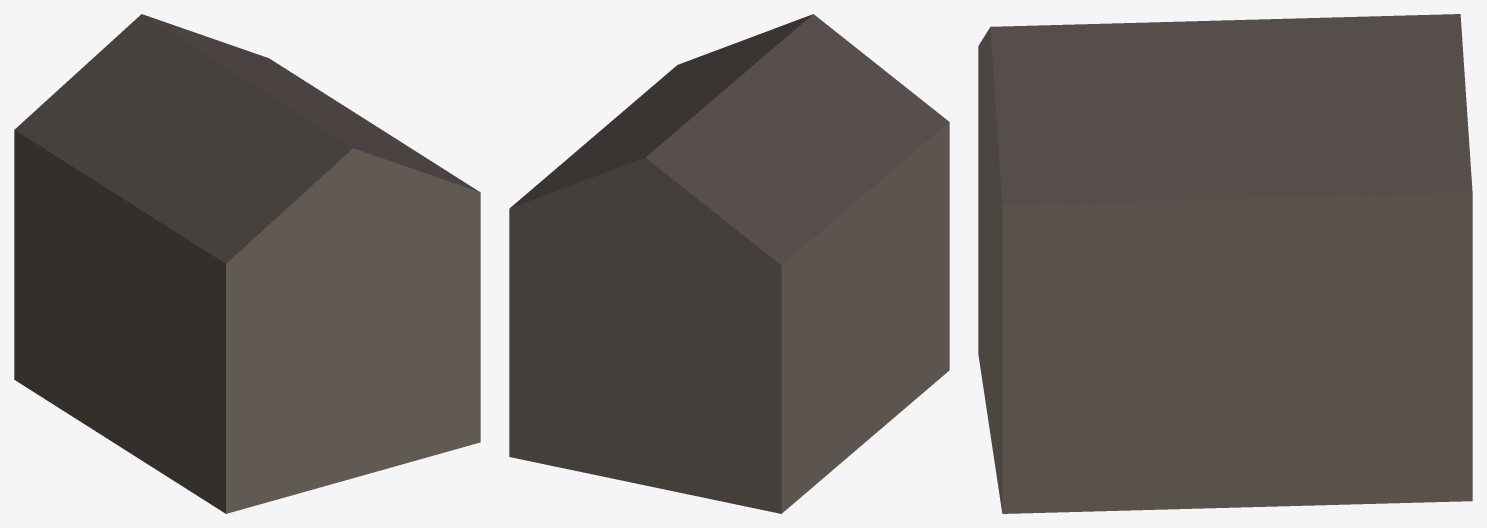
3 renders of one model, left to right at view 1: azimuth 30°, elevation 25°; view 2: azimuth 150°, elevation 25°; view 3: azimuth 270°, elevation 25°, orthographic. The views are drawn at different scales.
Parts seen in each view (by area): view 1: HP-w369317515; view 2: HP-w369317515; view 3: HP-w369317515.
Part boxes in pixels (<box>): HP-w369317515: <box>14,14,480,513</box>; HP-w369317515: <box>509,14,949,513</box>; HP-w369317515: <box>978,14,1472,513</box>.
Bounding box in the file's own units: 10.75 × 11.88 × 13.05.
